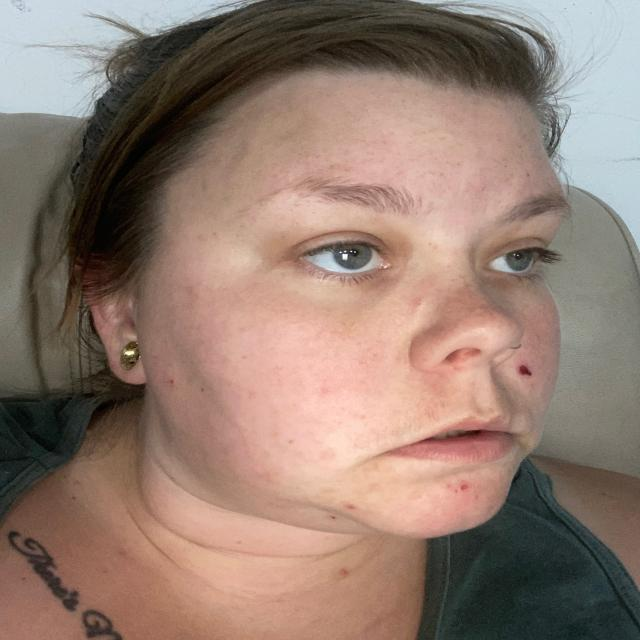Acne: (316, 448, 354, 470), (439, 480, 477, 501), (517, 365, 550, 388), (331, 499, 371, 517), (400, 294, 433, 314), (180, 284, 210, 304), (311, 382, 338, 400), (252, 470, 286, 483), (514, 166, 545, 179), (282, 431, 300, 449), (163, 370, 182, 386)
Wrinkles: (354, 442, 404, 481)
